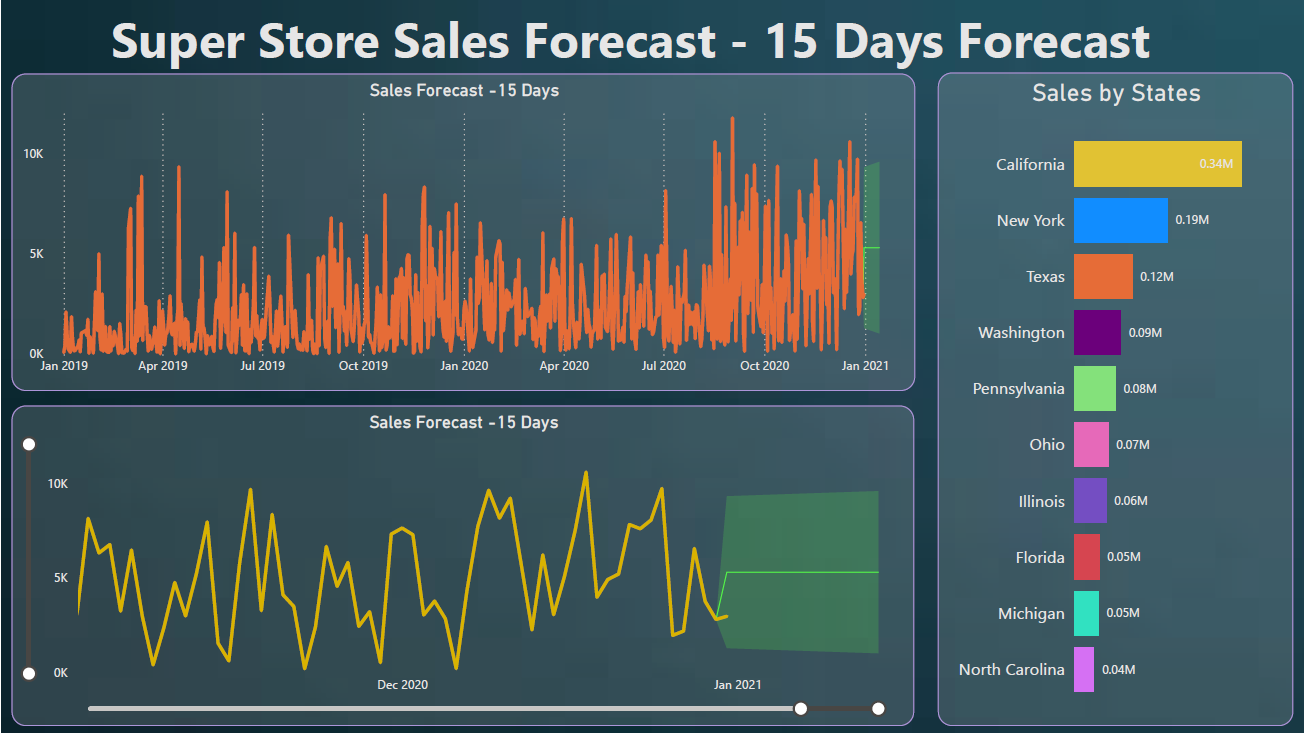

The page's visual inventory and layout, read from the dashboard file:
{"tool":"powerbi","page":{"name":"Page 2","canvas":[1280,720],"ordinal":1},"visuals":[{"type":"lineChart","title":"Sales Forecast -15 Days","fields":{"Y":["Sum(SuperStore_Sales_Dataset.Sales)"],"Category":["SuperStore_Sales_Dataset.Order Date"]},"box":[10,72,882,310],"z":0},{"type":"lineChart","title":"Sales Forecast -15 Days","fields":{"Y":["Sum(SuperStore_Sales_Dataset.Sales)"],"Category":["SuperStore_Sales_Dataset.Order Date"]},"box":[10,395.7,881.4,312.9],"z":1000},{"type":"clusteredBarChart","title":"Sales by States","fields":{"Category":["SuperStore_Sales_Dataset.State"],"Y":["Sum(SuperStore_Sales_Dataset.Sales)"]},"box":[914.3,71.4,347.1,637.1],"z":2000},{"type":"textbox","box":[102,0,1076,78],"z":3000}]}

Visuals, with their boxes in screenshot pixels (x1, y1, x2, y2), scaled from the page's 1280x720 canvas onto the 1304x733 screenshot:
"Sales Forecast -15 Days" lineChart: <box>10,73,909,389</box>
"Sales Forecast -15 Days" lineChart: <box>10,403,908,721</box>
"Sales by States" clusteredBarChart: <box>931,73,1285,721</box>
textbox: <box>104,0,1200,79</box>
